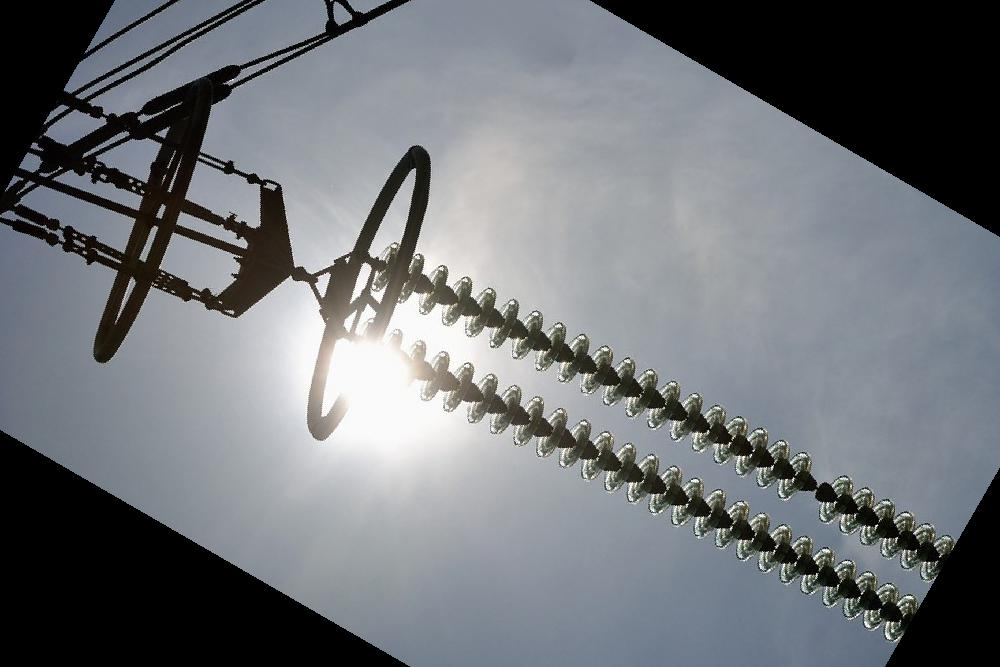insulator: (363, 237, 959, 583), (367, 328, 927, 643)
insulator_stringdrop: (773, 447, 859, 528)
